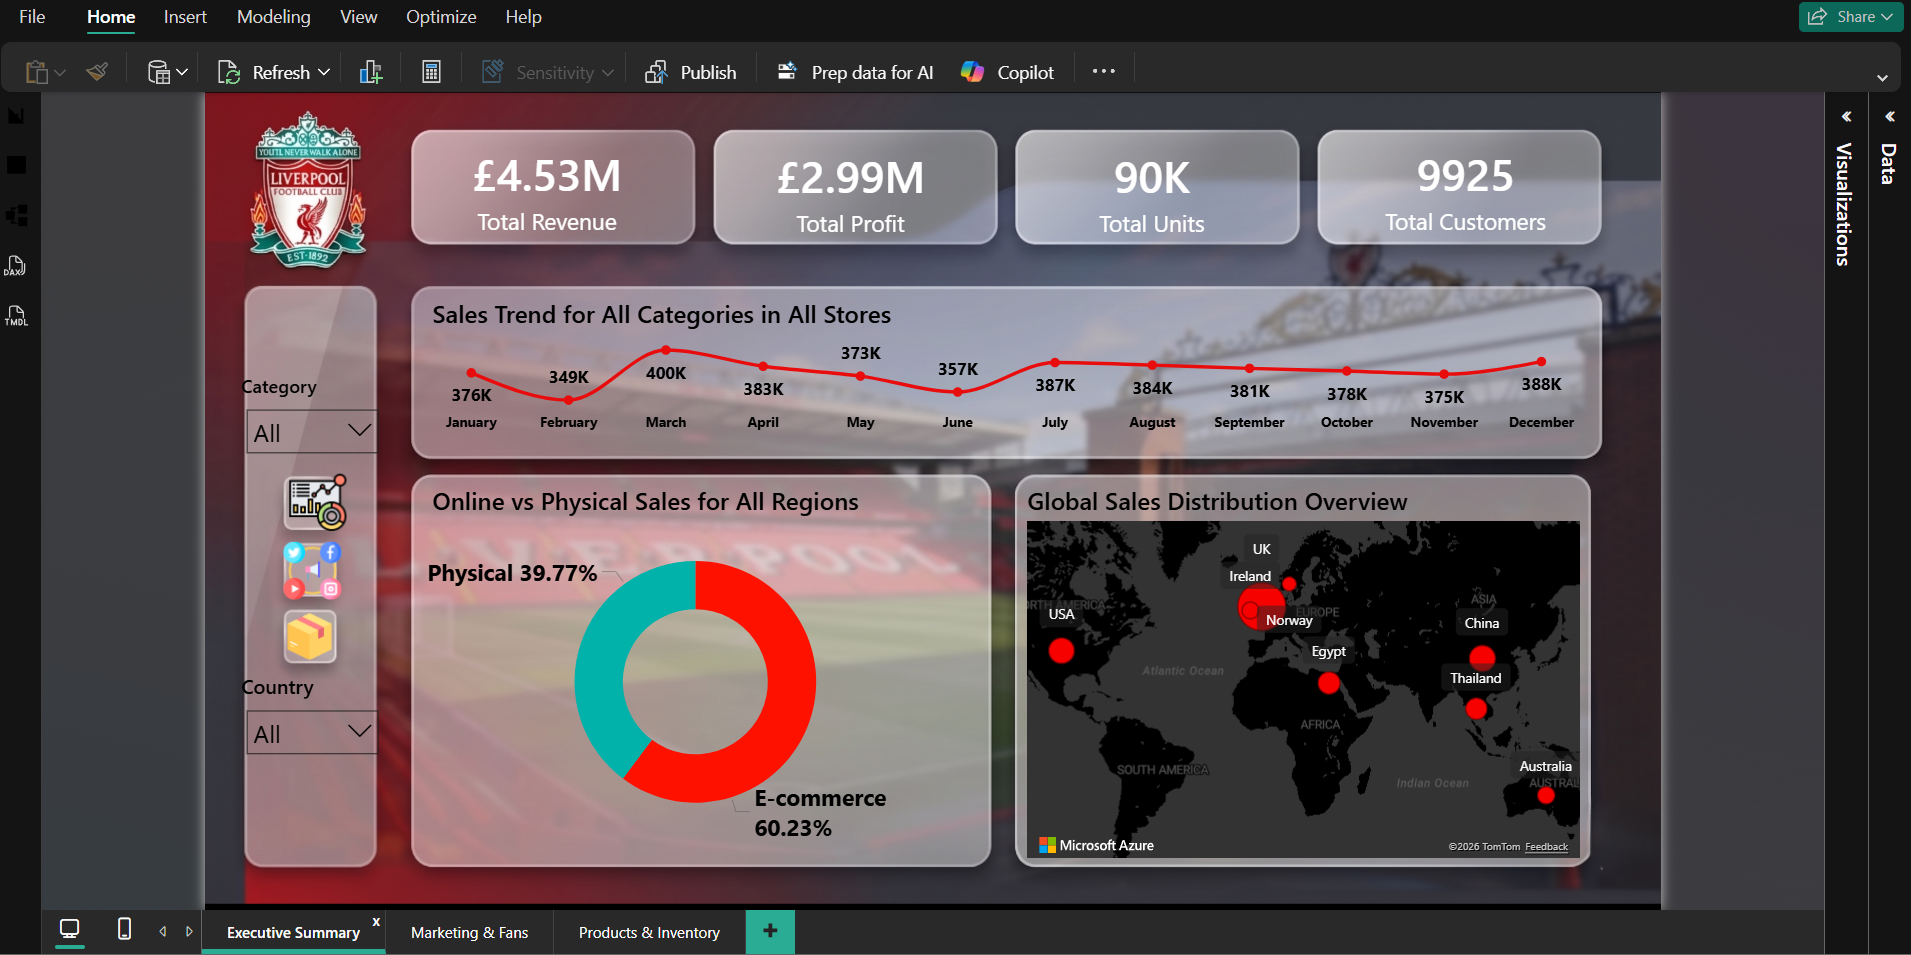

This screenshot's page, from the dashboard's own definition file:
{"tool":"powerbi","page":{"name":"Executive Summary","canvas":[1280,720],"ordinal":0},"visuals":[{"type":"donutChart","fields":{"Category":["Dim_Stores_v2.StoreType"],"Y":["Sum(Fact_Sales_v2.TotalAmount)"]},"box":[187.6,331.7,486.6,340.1],"z":0},{"type":"slicer","title":"Country","fields":{"Values":["Dim_Customers_v2.Country"]},"box":[31.9,511.7,125.9,89.3],"z":1000},{"type":"slicer","title":"Category","fields":{"Values":["Dim_Products_v2.Category"]},"box":[31.9,247.1,125.9,84.5],"z":2000},{"type":"card","fields":{"Values":["_Measures.Total Profit"]},"box":[472.1,30.6,192.5,111.5],"z":3000},{"type":"card","fields":{"Values":["_Measures.Total Units"]},"box":[744,30.6,177.2,111.5],"z":4000},{"type":"card","fields":{"Values":["_Measures.Total Revenue"]},"box":[212.4,30.6,177.2,108.5],"z":5000},{"type":"card","fields":{"Values":["_Measures.Total Customers"]},"box":[1012.9,30.6,192.5,108.5],"z":6000},{"type":"azureMap","fields":{"Category":["Dim_Customers_v2.Country"],"Size":["Sum(Fact_Sales_v2.TotalAmount)"]},"box":[711.8,331.7,509.6,353.5],"z":7000},{"type":"lineChart","fields":{"Y":["Sum(Fact_Sales_v2.TotalAmount)"],"Category":["Fact_Sales_v2.Date.Variation.Date Hierarchy.Quarter","Fact_Sales_v2.Date.Variation.Date Hierarchy.Month"]},"box":[187.6,168.3,1033.8,147.7],"z":8000},{"type":"actionButton","box":[71,459,45,41],"z":9000},{"type":"actionButton","box":[69,331,60,60],"z":10000},{"type":"actionButton","box":[65,391,59.3,59.3],"z":11000}]}

Visuals, with their boxes on the page's 1280x720 design canvas (x1, y1, x2, y2). These are canvas units, not pixel positions in the 1911x955 screenshot, which may show the page scaled, cropped or inside an application window:
donutChart - Dim_Stores_v2.StoreType x Sum(Fact_Sales_v2.TotalAmount): x1=188, y1=332, x2=674, y2=672
"Country" slicer: x1=32, y1=512, x2=158, y2=601
"Category" slicer: x1=32, y1=247, x2=158, y2=332
card - _Measures.Total Profit: x1=472, y1=31, x2=665, y2=142
card - _Measures.Total Units: x1=744, y1=31, x2=921, y2=142
card - _Measures.Total Revenue: x1=212, y1=31, x2=390, y2=139
card - _Measures.Total Customers: x1=1013, y1=31, x2=1205, y2=139
azureMap - Dim_Customers_v2.Country x Sum(Fact_Sales_v2.TotalAmount): x1=712, y1=332, x2=1221, y2=685
lineChart - Sum(Fact_Sales_v2.TotalAmount) x Fact_Sales_v2.Date.Variation.Date Hierarchy.Quarter: x1=188, y1=168, x2=1221, y2=316
actionButton: x1=71, y1=459, x2=116, y2=500
actionButton: x1=69, y1=331, x2=129, y2=391
actionButton: x1=65, y1=391, x2=124, y2=450
